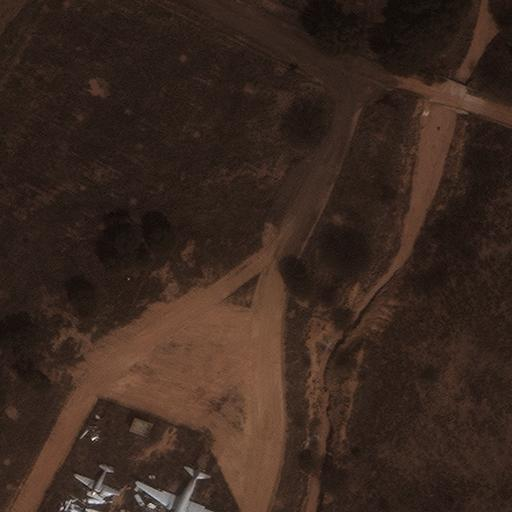Military Transport: (135, 467, 225, 512)
Small Civil Transport: (72, 464, 119, 496)
